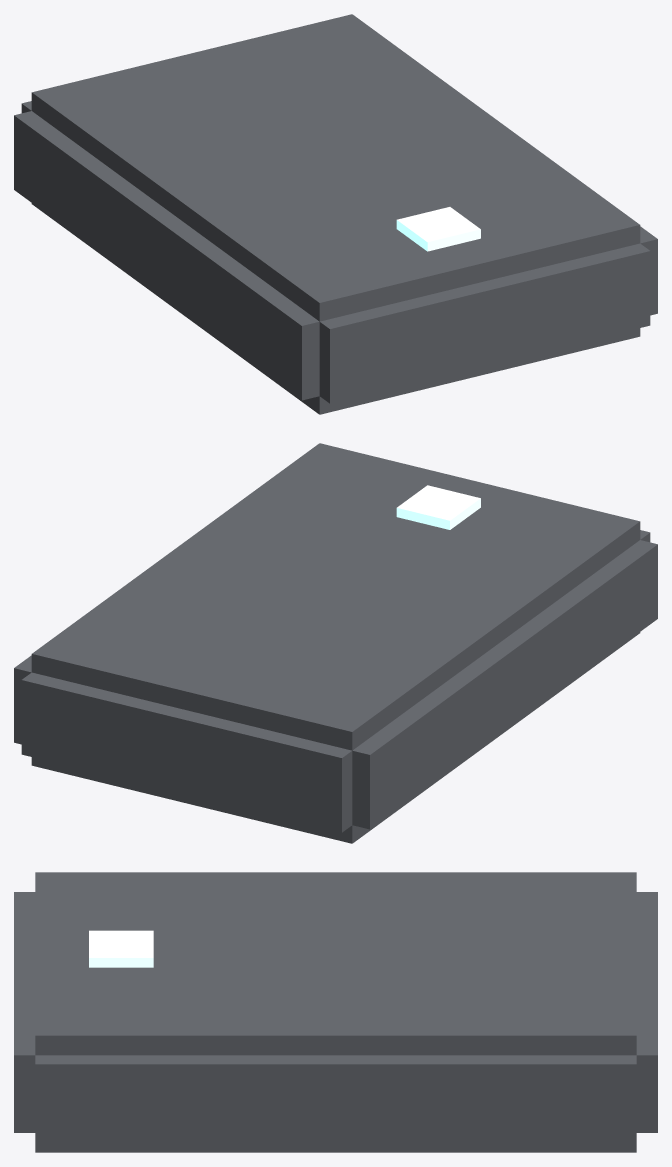
The model's file is disco_duro.glb.
The picture shows the model from 3 angles, top to bottom: view 1: azimuth 30°, elevation 25°; view 2: azimuth 150°, elevation 25°; view 3: azimuth 270°, elevation 25°; orthographic projection. The views are drawn at different scales.
Parts seen in each view (by area): view 1: disco_duro; view 2: disco_duro; view 3: disco_duro.
Part boxes in pixels (bbox=[...]): disco_duro: bbox=[14, 14, 657, 414]; disco_duro: bbox=[14, 443, 657, 843]; disco_duro: bbox=[14, 872, 657, 1152].
Bounding box in the file's own units: 0.08 × 0.026 × 0.12.
